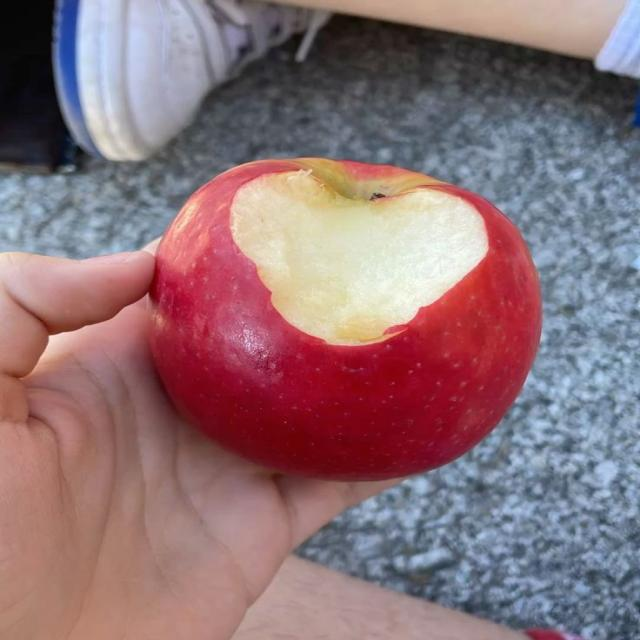apple: (152, 159, 540, 479)
